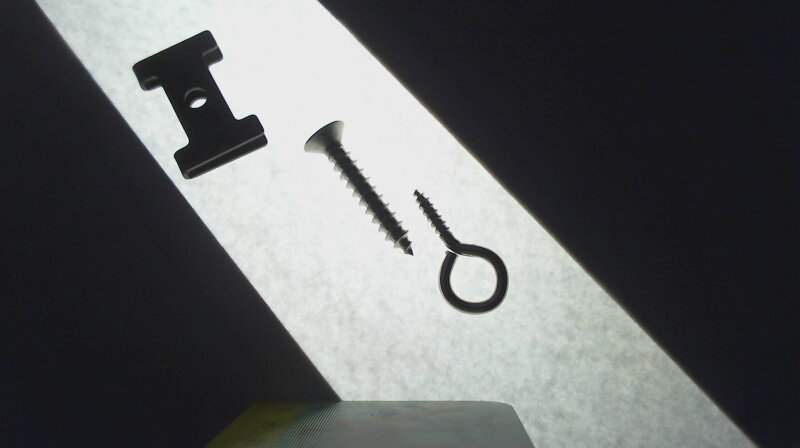O001: (410, 185, 510, 317)
O002: (129, 26, 272, 183)
S001: (299, 117, 419, 258)
